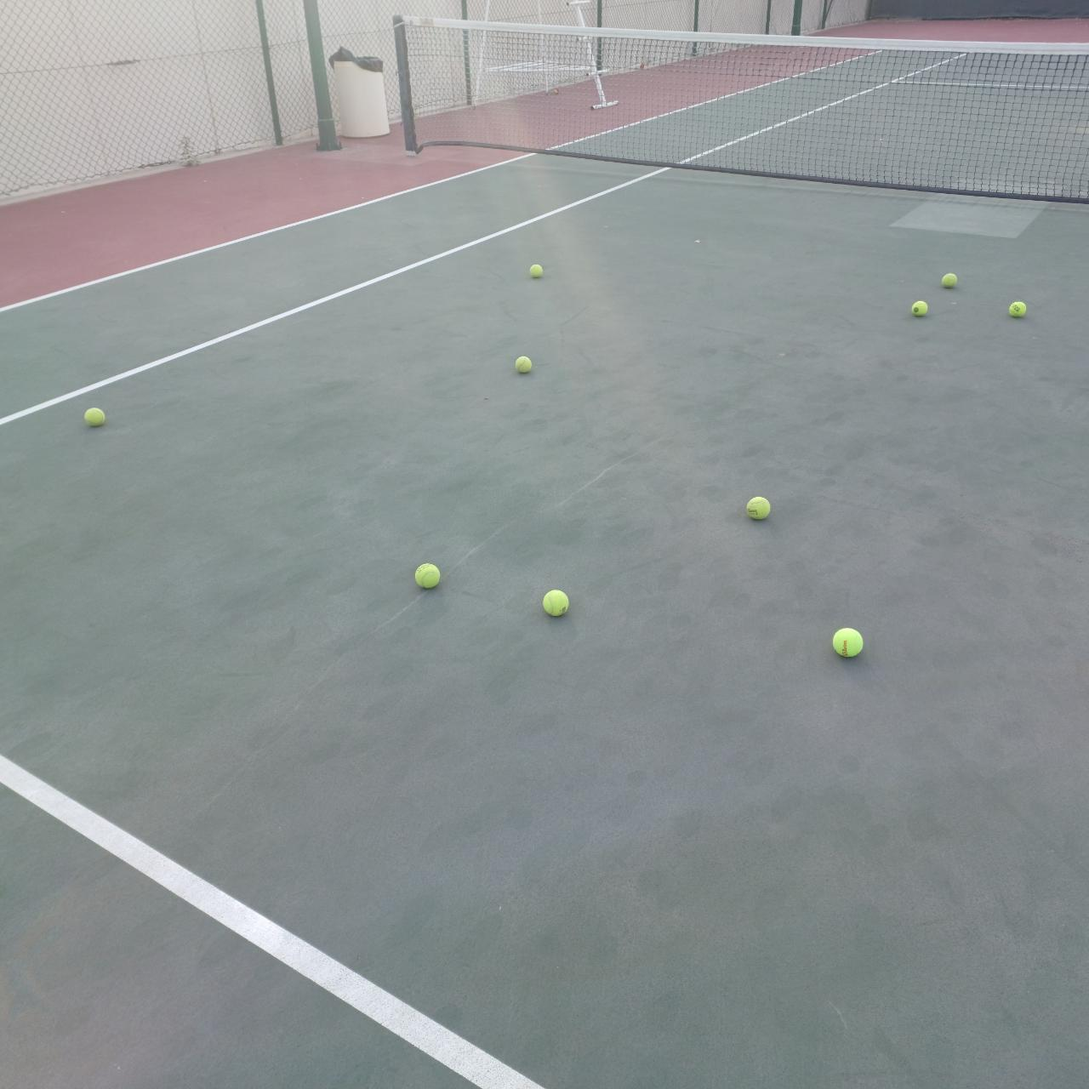tennis-ball: (830, 624, 864, 658), (541, 587, 569, 617), (413, 560, 441, 589), (744, 493, 771, 520), (83, 405, 105, 427), (514, 354, 532, 373), (1006, 299, 1026, 316), (909, 298, 927, 316), (939, 271, 957, 288), (527, 261, 543, 277)
